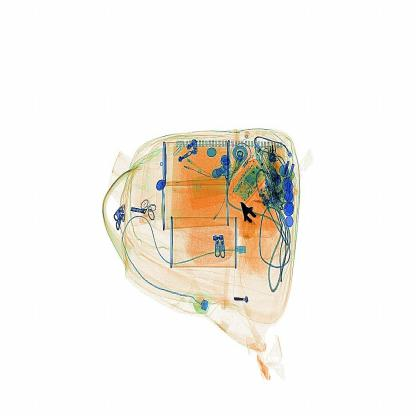gun: (235, 193, 273, 243)
